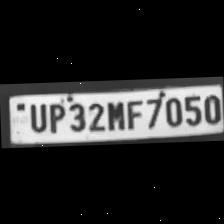0: (200, 91, 222, 124), (162, 94, 182, 128)
2: (84, 98, 104, 132)
3: (64, 99, 84, 132)
5: (180, 90, 202, 126)
7: (141, 94, 161, 129)
F: (124, 96, 142, 130)
M: (104, 98, 124, 132)
P: (44, 100, 64, 134)
U: (25, 100, 47, 133)
